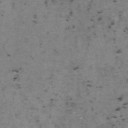oxide scale of temperature system: (2, 68, 82, 124), (65, 4, 128, 54), (106, 94, 128, 120), (32, 14, 38, 24), (48, 74, 54, 80), (12, 2, 16, 10), (72, 66, 80, 70), (44, 0, 48, 7), (54, 49, 58, 54), (15, 114, 20, 118)
